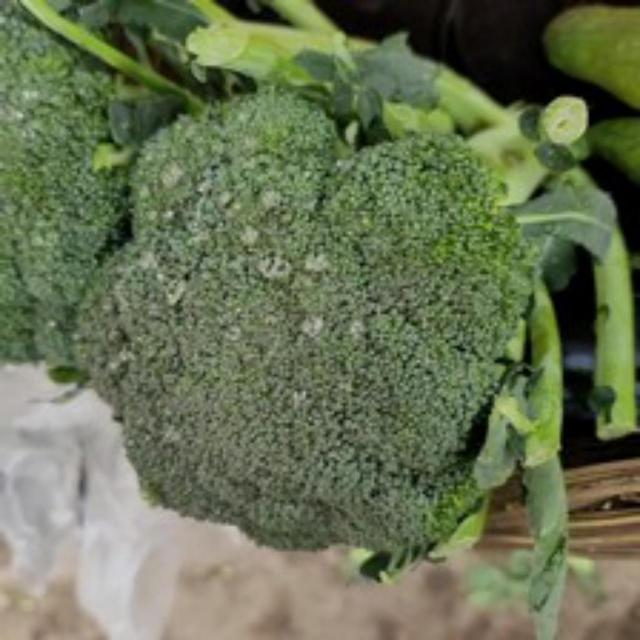broccoli: (95, 99, 548, 543)
